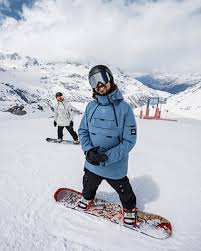snowboard: (53, 186, 173, 240), (44, 137, 81, 145)
